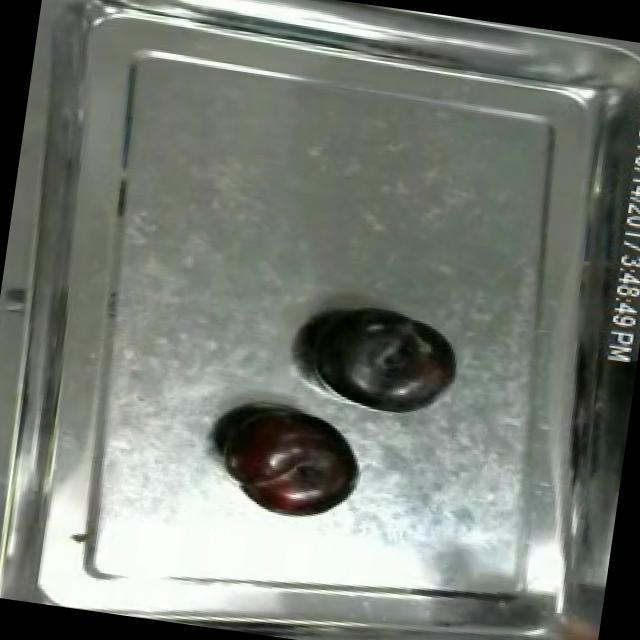Fruit: (298, 291, 472, 426), (203, 391, 372, 529)
